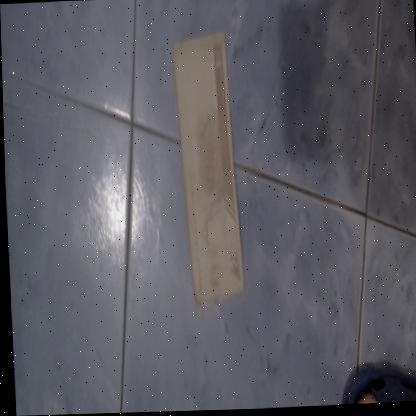five-back-vef: (170, 31, 244, 303)
